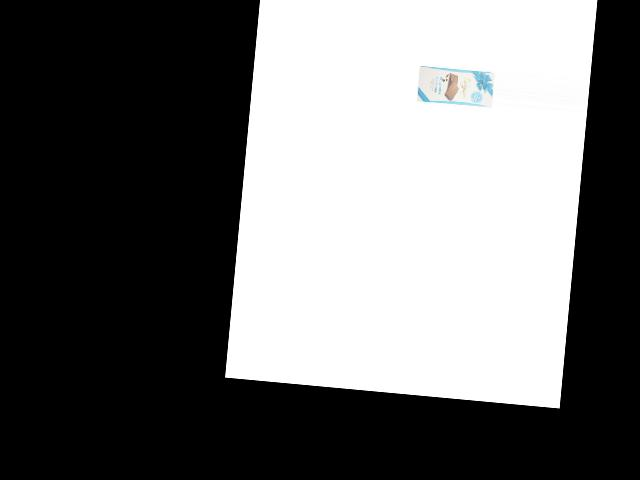chocolate: (414, 60, 496, 111)
